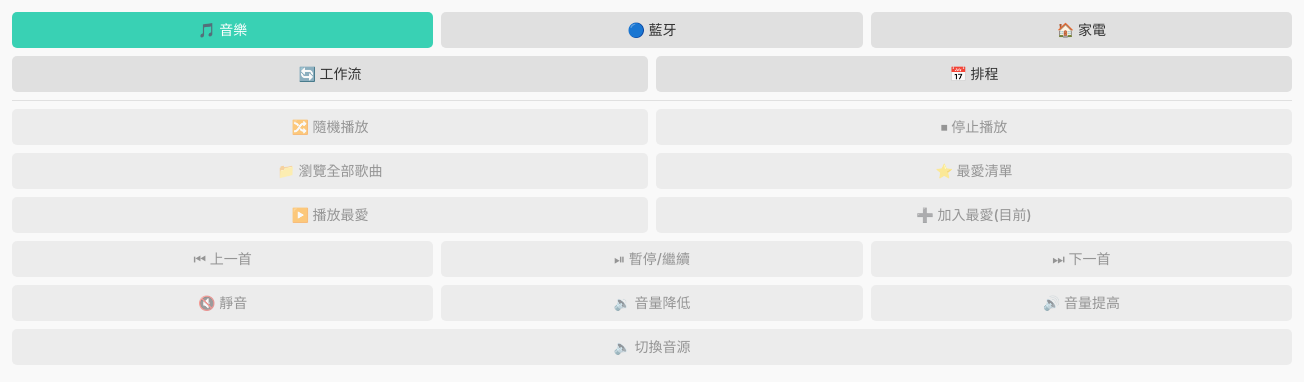
Scenario: LifeActionPanel — bluetooth sub-panel (#7) › disables the scan button when disabled=true
The width and height of the screenshot is (1304, 382).
Click the button "🔵 藍牙": (652, 30) [441,12,863,48]
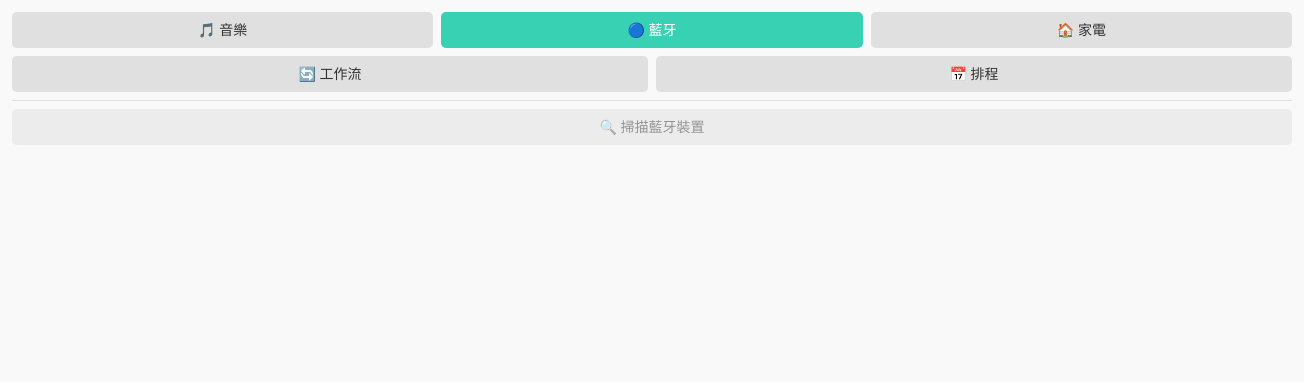
Expected: the button "🔍 掃描藍牙裝置" is disabled, [12,109,1292,145]
